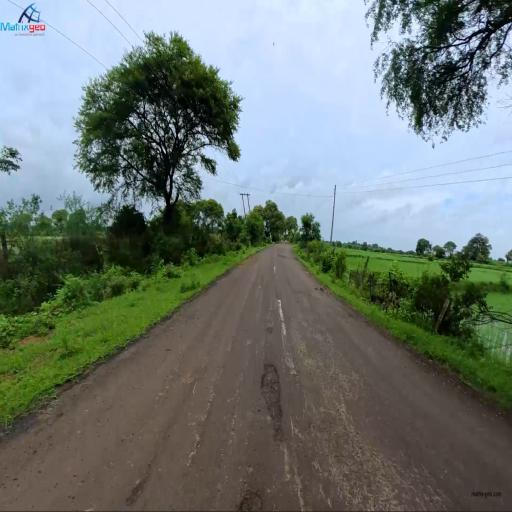pothole: (256, 341, 291, 446), (231, 470, 278, 507)
ravelling: (330, 386, 403, 499)
